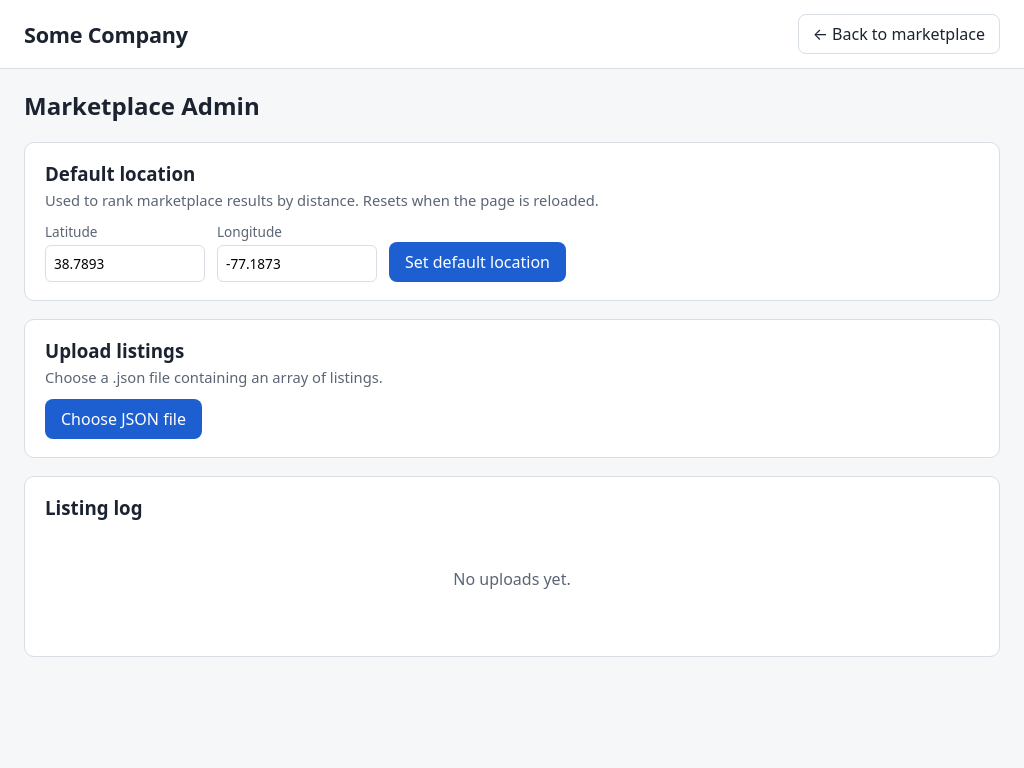
Test case: AdminPage › default location › changes the location sent by the next marketplace search
Replace the text in the field labelled "Latitude" with "40.7128": (125, 263) left=45, top=245, right=205, bottom=282
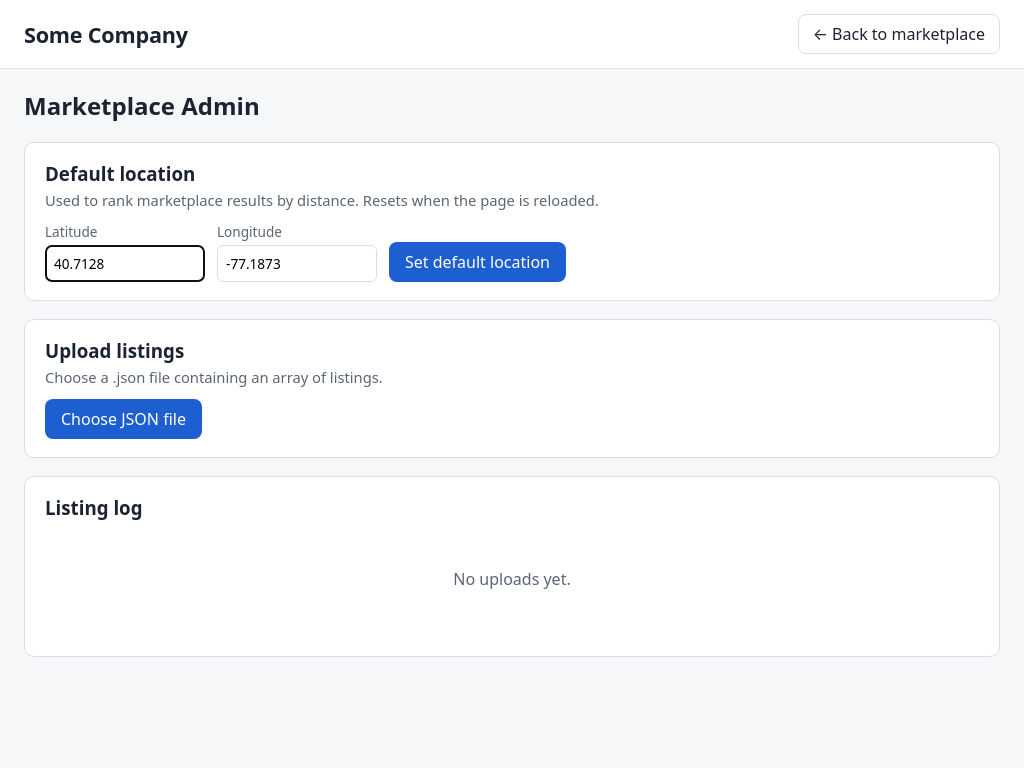
Replace the text in the field labelled "Longitude" with "-74.006": (297, 263) left=217, top=245, right=377, bottom=282
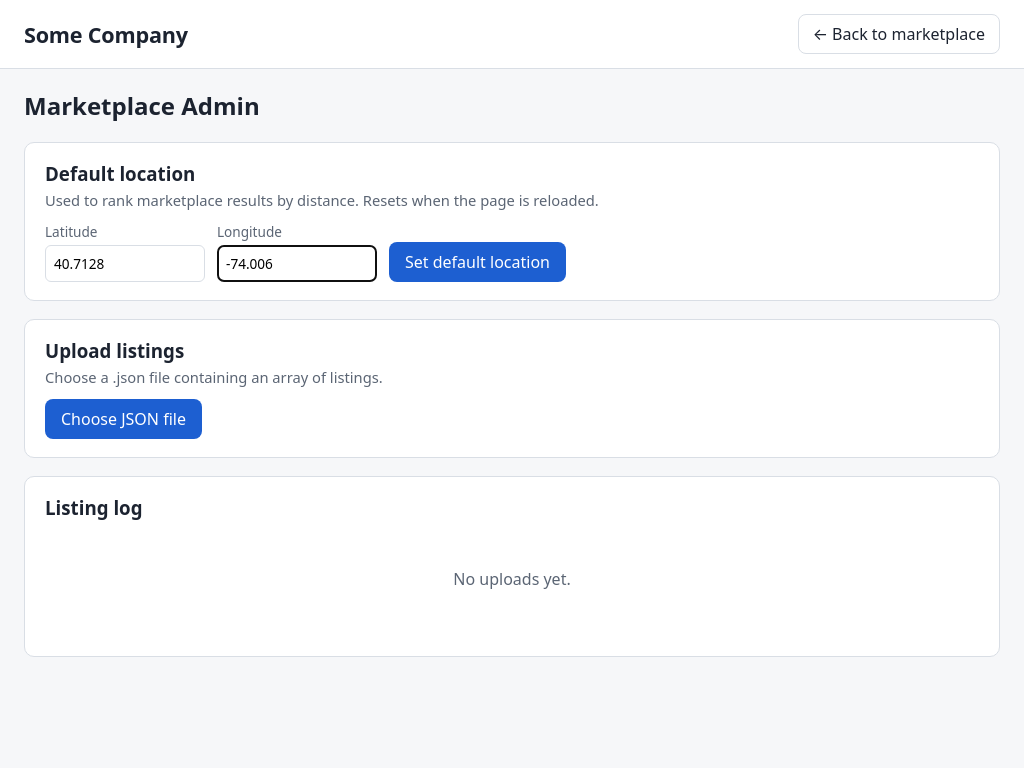
Click the button "Set default location": click(478, 262) left=389, top=242, right=566, bottom=282
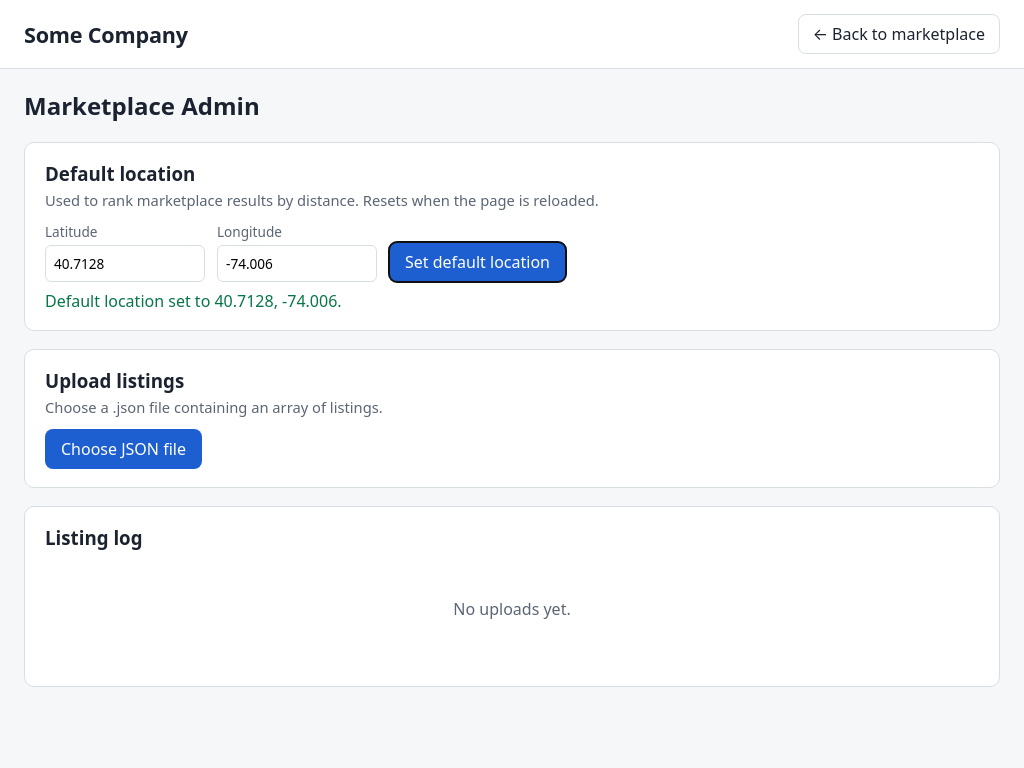
Check: the message reads "Default location set to 40.7128, -74.006.", box left=45, top=290, right=342, bottom=312
Click the link "← Back to marketplace": click(899, 34) left=798, top=14, right=1000, bottom=54
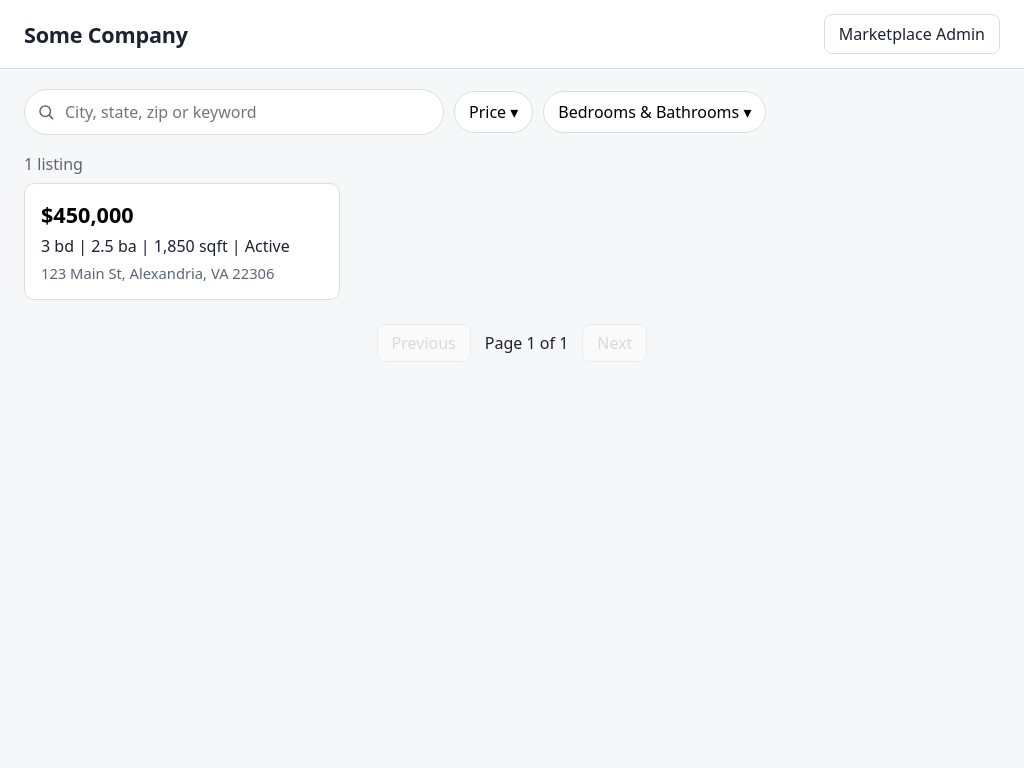
Check: the button with test id "listing-card" is shown, box left=24, top=183, right=340, bottom=300
Note: Returning to admin shows the saved value.
Click the link "Marketplace Admin": click(912, 34) left=824, top=14, right=1000, bottom=54
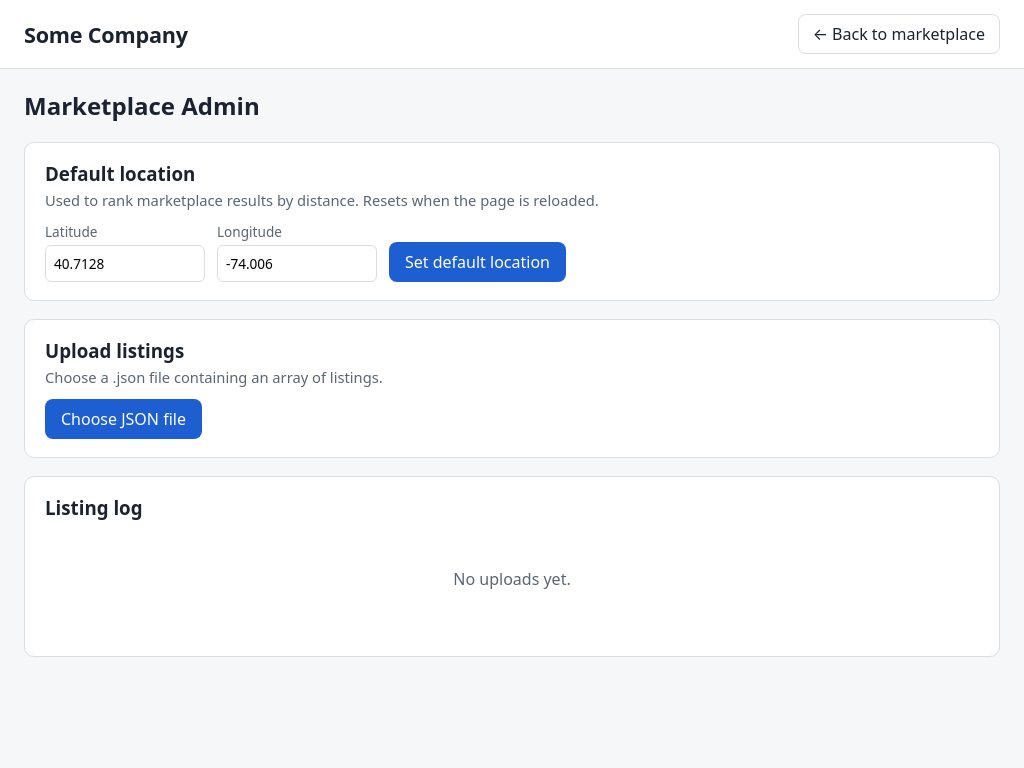
Check: the field labelled "Latitude" holds "40.7128", box left=45, top=245, right=205, bottom=282
